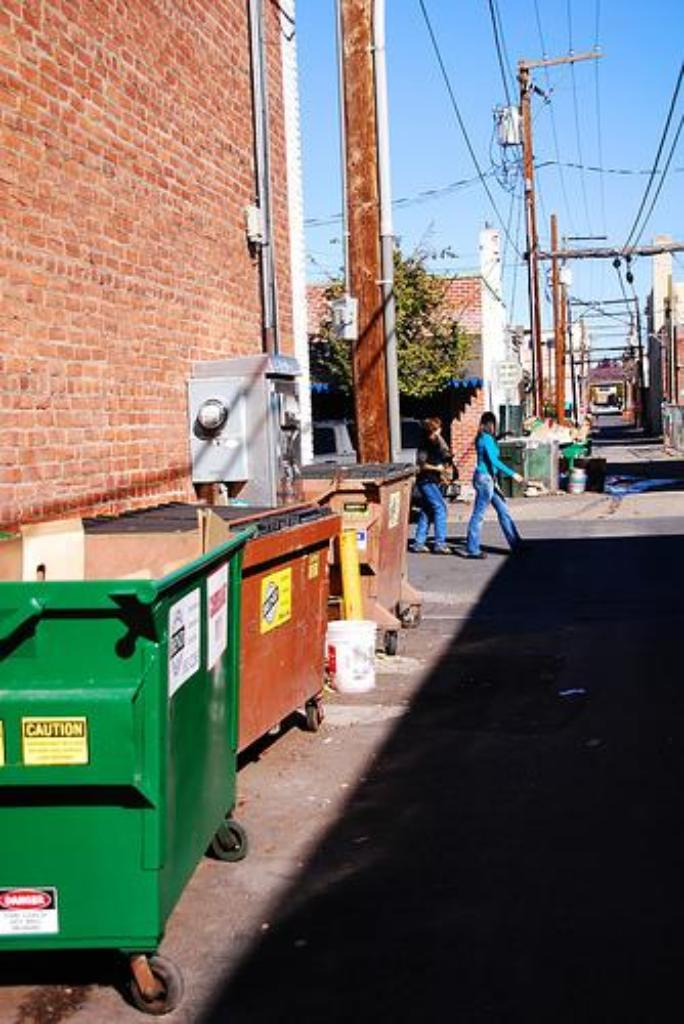dustbin: (0, 516, 242, 985), (199, 491, 346, 752), (302, 453, 434, 652)
